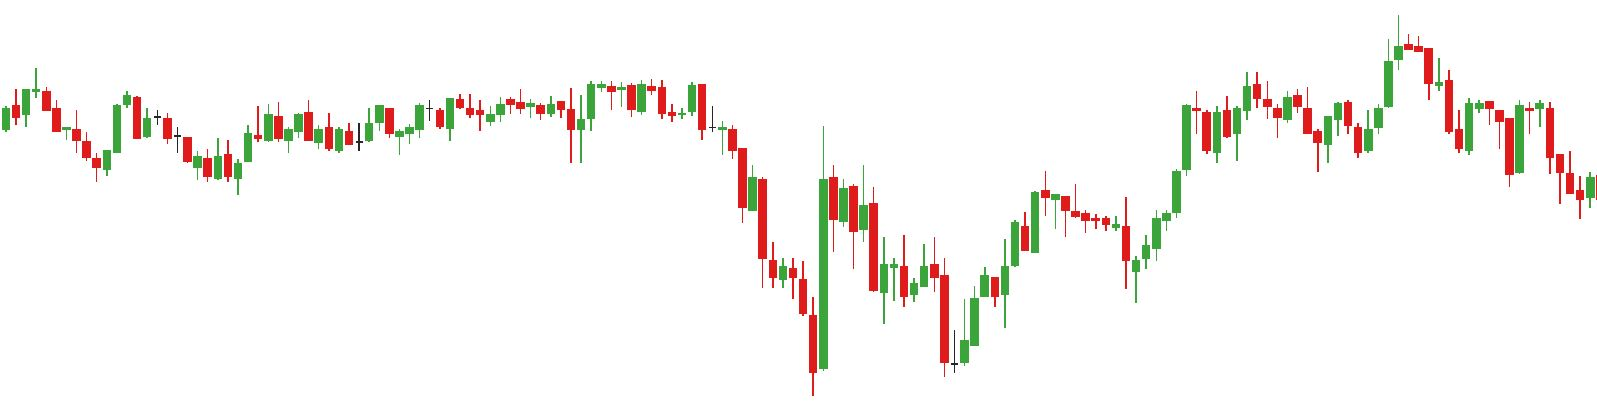buy: (880, 229, 980, 375)
sell: (1241, 7, 1436, 125)
